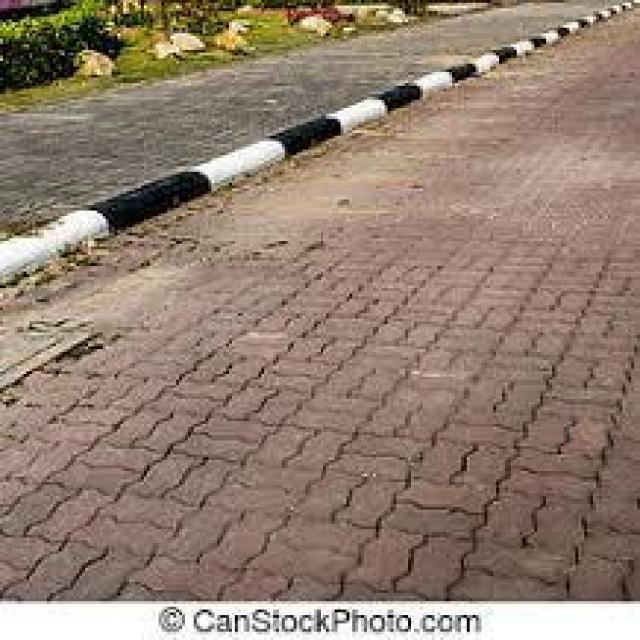curb: (1, 1, 637, 284)
